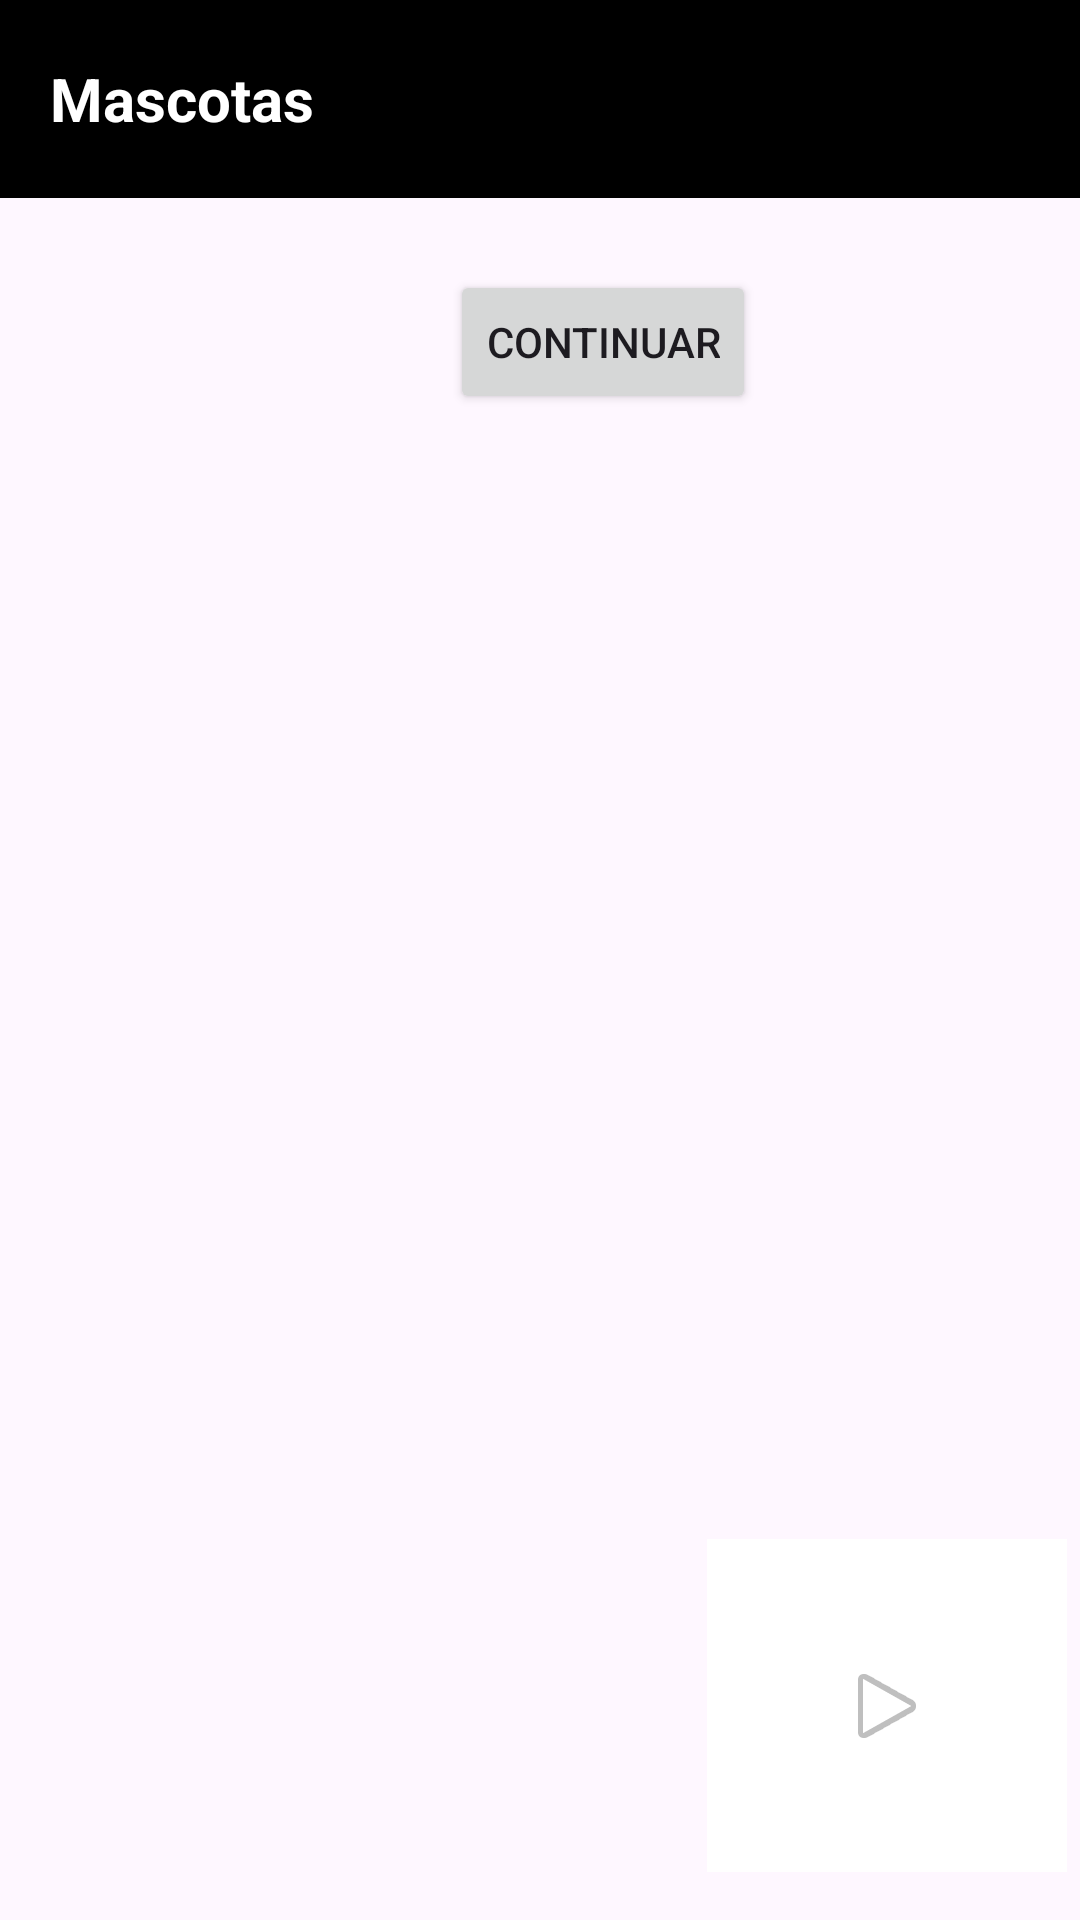

Icon click points for this 1080×1920 phone screenshot, format [x,y]:
play: [887,1706]
